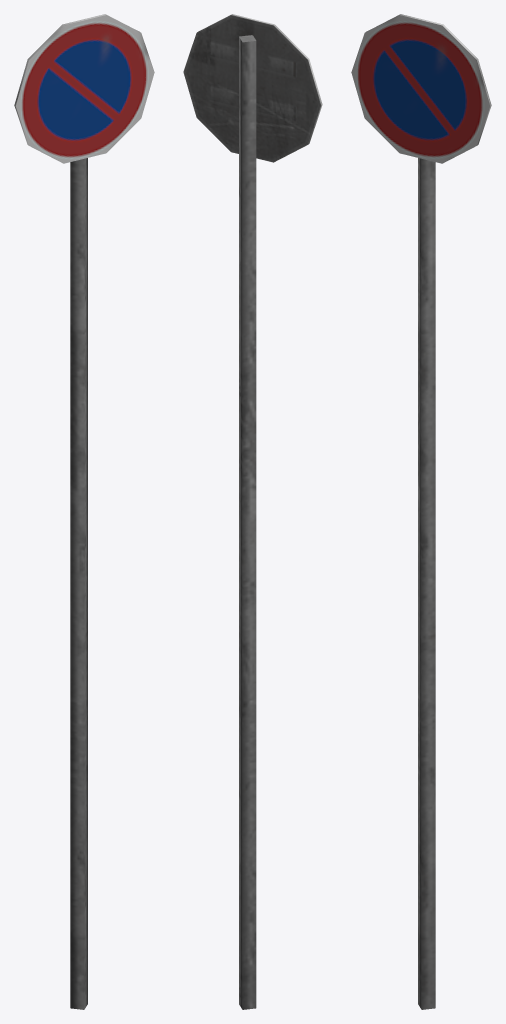
Rendered from jctlowStreetSignB.fbx.
The picture shows the model from 3 angles, left to right: view 1: azimuth 30°, elevation 25°; view 2: azimuth 150°, elevation 25°; view 3: azimuth 330°, elevation 25°; orthographic projection.
Visible parts, largest first — view 1: jctlowStreetSignB; view 2: jctlowStreetSignB; view 3: jctlowStreetSignB.
Boxes of the visible parts, x1=… form: jctlowStreetSignB: x1=14, y1=14, x2=154, y2=1009; jctlowStreetSignB: x1=183, y1=14, x2=322, y2=1009; jctlowStreetSignB: x1=351, y1=14, x2=491, y2=1009.
Bounding box in the file's own units: 60 × 409 × 8.3.
1 material, 1 textured.
